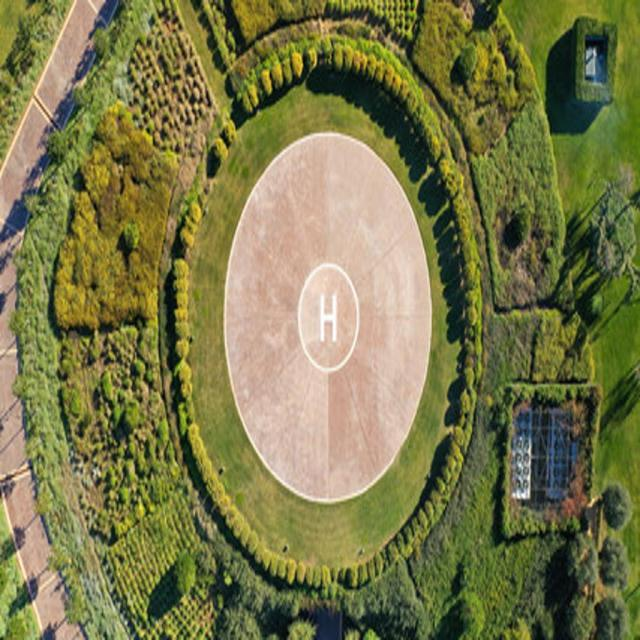helipad: (296, 262, 360, 373)
